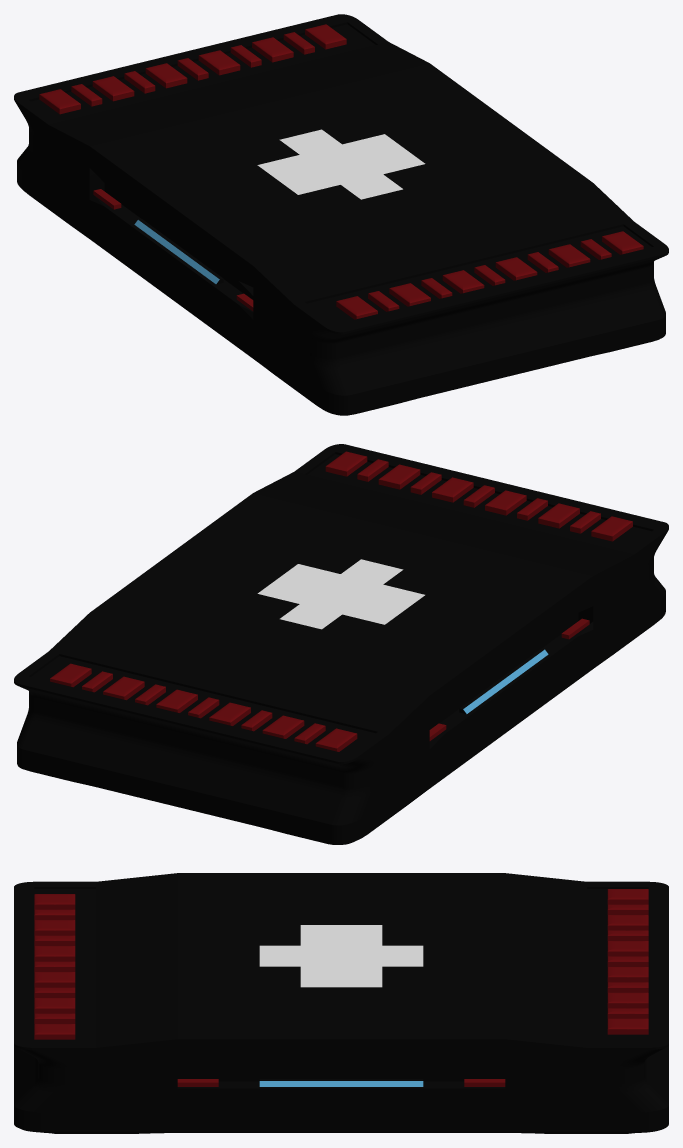
Rendered from MovingRobot.fbx.
The picture shows the model from 3 angles, top to bottom: view 1: azimuth 30°, elevation 25°; view 2: azimuth 150°, elevation 25°; view 3: azimuth 270°, elevation 25°; orthographic projection.
Parts seen in each view (by area): view 1: Cube; view 2: Cube; view 3: Cube.
Part boxes in pixels (<box>): Cube: <box>14,14,668,415</box>; Cube: <box>14,444,668,844</box>; Cube: <box>14,873,668,1133</box>.
Bounding box in the file's own units: 200 × 57.02 × 333.
